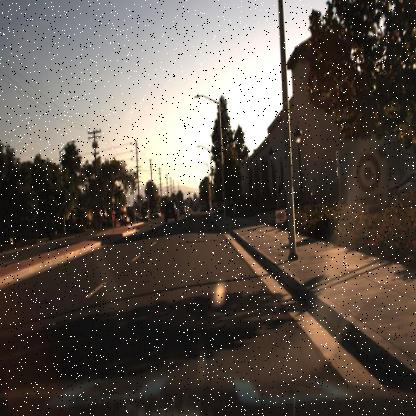car: (161, 197, 179, 226), (138, 210, 150, 225), (152, 210, 162, 223)
